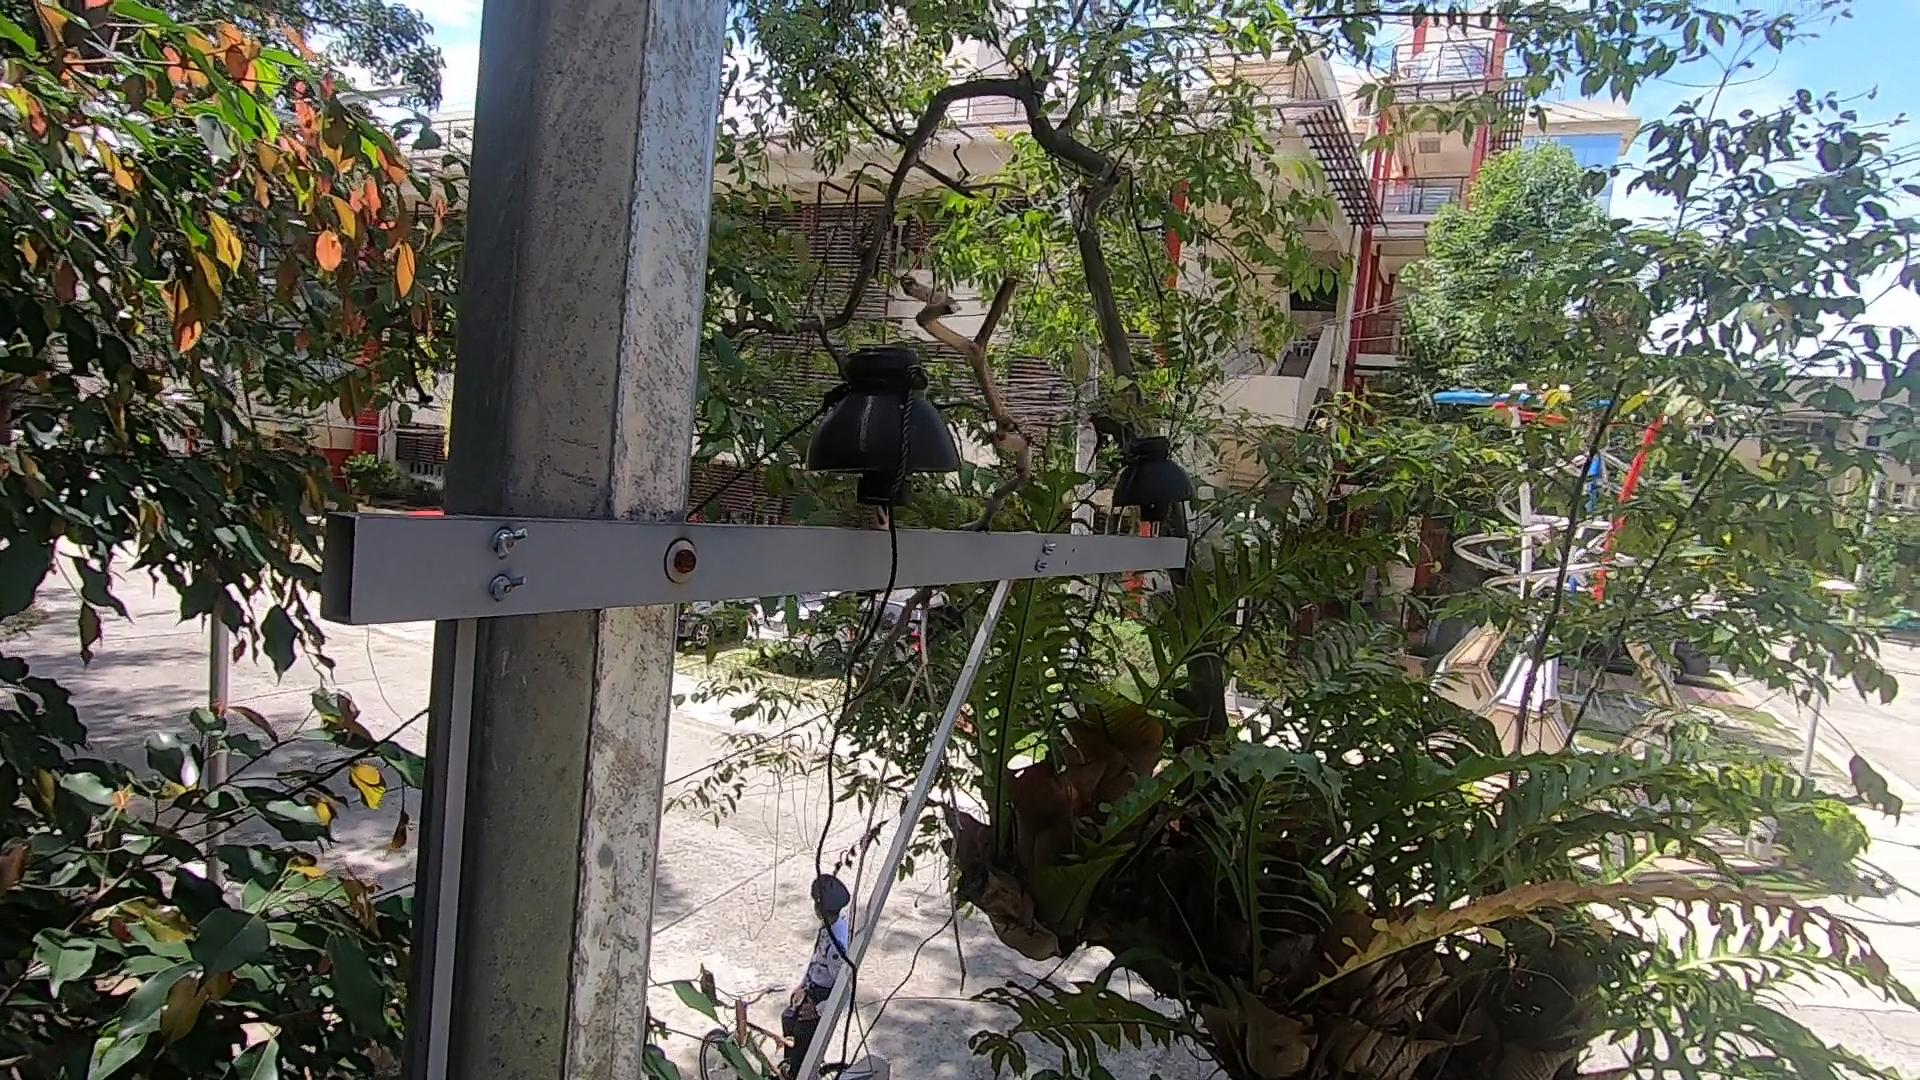tree branch: (893, 266, 1043, 774)
